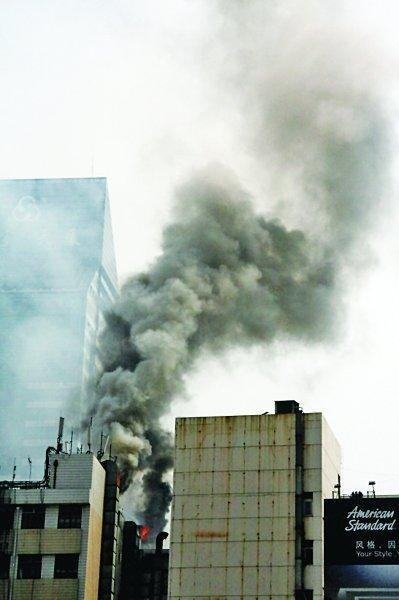fire: (137, 524, 150, 537)
